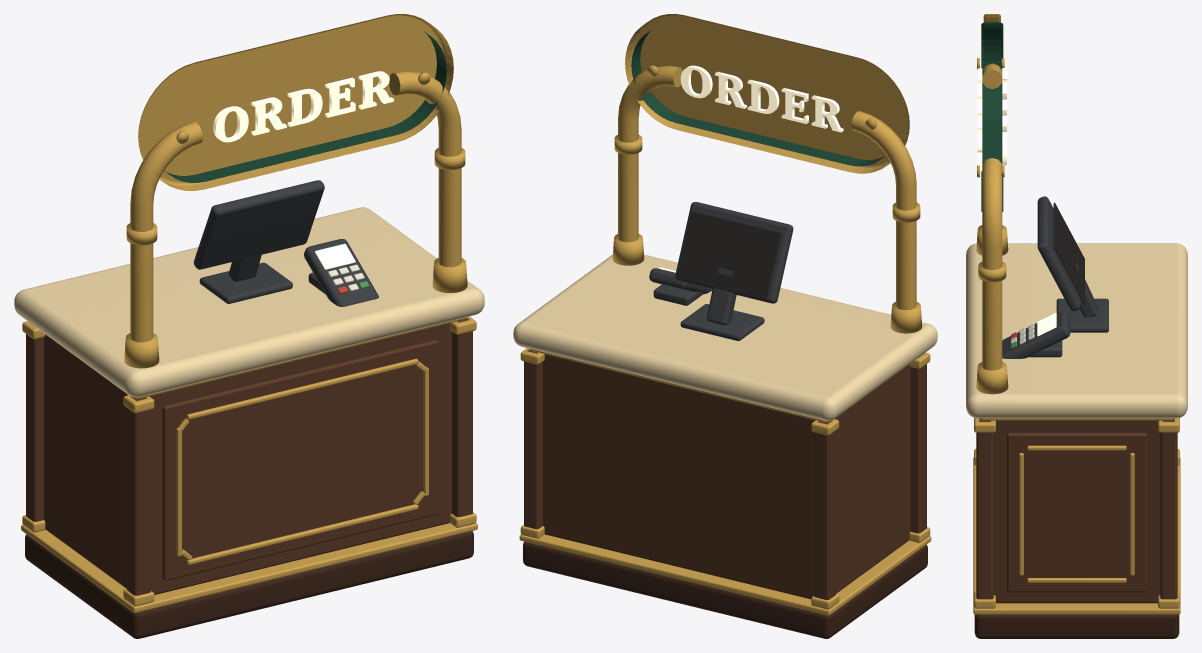
Rendered from order_desk.glb.
3 views of the same model, side by side, from view 1: azimuth 30°, elevation 25°; view 2: azimuth 150°, elevation 25°; view 3: azimuth 270°, elevation 25° (orthographic). The views are drawn at different scales.
Visible parts, largest first — view 1: FrontPanel, Top, SignBorder, Body, Plinth, Monitor, PlinthBrass, ArchPost-1, ArchPost1, Pilaster-1-1, SignText0, Pilaster1-1 (+12 smaller); view 2: Body, Top, SignBorder, Plinth, MonitorGlass, PlinthBrass, ArchPost-1, ArchPost1, Pilaster-11, SignText1, Pilaster11, Pilaster-1-1 (+9 smaller); view 3: Top, EndPanel, Body, Plinth, ArchPost1, PlinthBrass, Pilaster1-1, Pilaster11, Sign, Monitor, MonitorGlass, Reader (+14 smaller).
Part boxes in pixels (box(x1,y1,x2,y2)): FrontPanel: box(162, 339, 438, 580); Top: box(14, 207, 484, 397); SignBorder: box(138, 14, 453, 190); Body: box(44, 323, 451, 594); Plinth: box(25, 531, 473, 638); Monitor: box(193, 180, 324, 269); PlinthBrass: box(21, 523, 477, 613); ArchPost-1: box(130, 121, 203, 342); ArchPost1: box(389, 71, 461, 267); Pilaster-1-1: box(127, 396, 150, 595); SignText0: box(213, 71, 393, 142); Pilaster1-1: box(452, 317, 472, 517); Body: box(543, 354, 910, 599); Top: box(513, 254, 937, 420); SignBorder: box(625, 14, 909, 173); Plinth: box(523, 541, 927, 638); MonitorGlass: box(676, 211, 781, 300); PlinthBrass: box(519, 534, 931, 615); ArchPost-1: box(851, 111, 916, 310); ArchPost1: box(618, 66, 682, 242); Pilaster-11: box(814, 420, 835, 599); SignText1: box(680, 65, 843, 132); Pilaster11: box(524, 349, 542, 529); Pilaster-1-1: box(910, 354, 926, 533); Top: box(966, 243, 1187, 418); EndPanel: box(1007, 432, 1146, 592); Body: box(993, 420, 1160, 603); Plinth: box(974, 614, 1179, 638); ArchPost1: box(982, 158, 1002, 370); PlinthBrass: box(973, 457, 1180, 614); Pilaster1-1: box(976, 418, 993, 599); Pilaster11: box(1160, 418, 1177, 599); Sign: box(981, 22, 1003, 211); Monitor: box(1037, 196, 1080, 311); MonitorGlass: box(1053, 202, 1084, 303); Reader: box(1002, 310, 1070, 358).
Size of the model in its own units: 1.29 by 1.9 by 0.7601.
